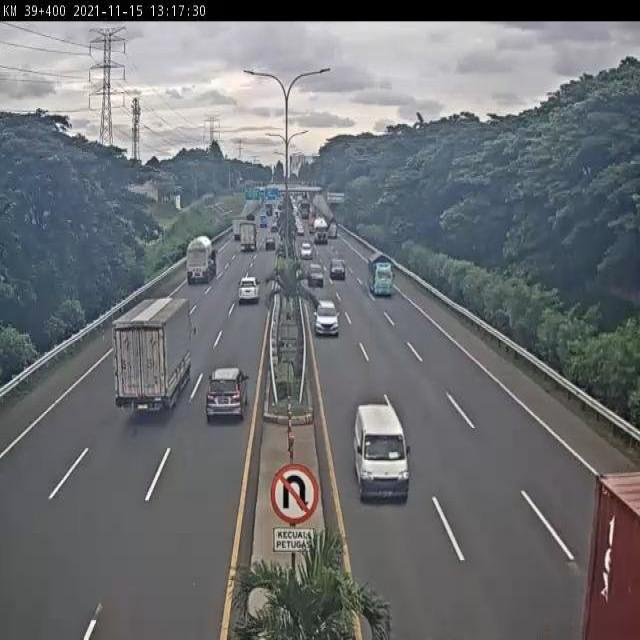bus-s-: (353, 403, 412, 504)
car: (207, 364, 249, 424), (314, 300, 339, 336), (236, 275, 263, 305), (308, 263, 324, 288), (329, 259, 346, 281)
truck-l-: (186, 235, 218, 285)
truck-m-: (113, 297, 193, 415), (368, 256, 396, 299)
